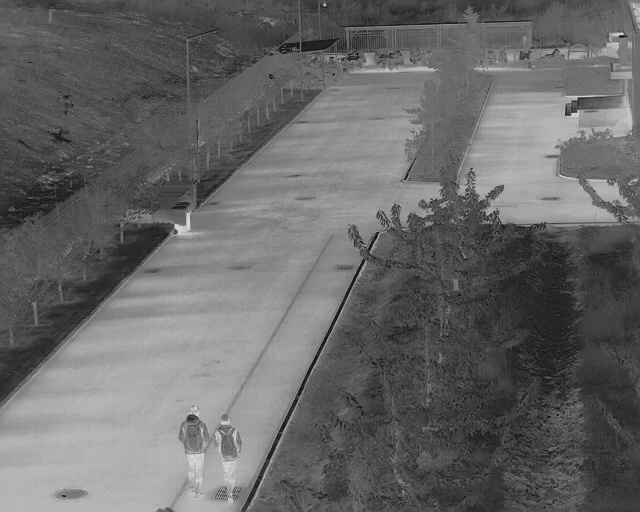person: (181, 406, 204, 498), (216, 415, 239, 502)
